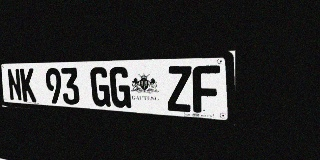3: (61, 67, 80, 105)
9: (45, 68, 63, 104)
F: (192, 65, 220, 114)
G: (109, 67, 131, 108), (90, 67, 111, 107)
K: (20, 68, 37, 102)
N: (7, 68, 23, 101)
Z: (166, 66, 192, 112)
